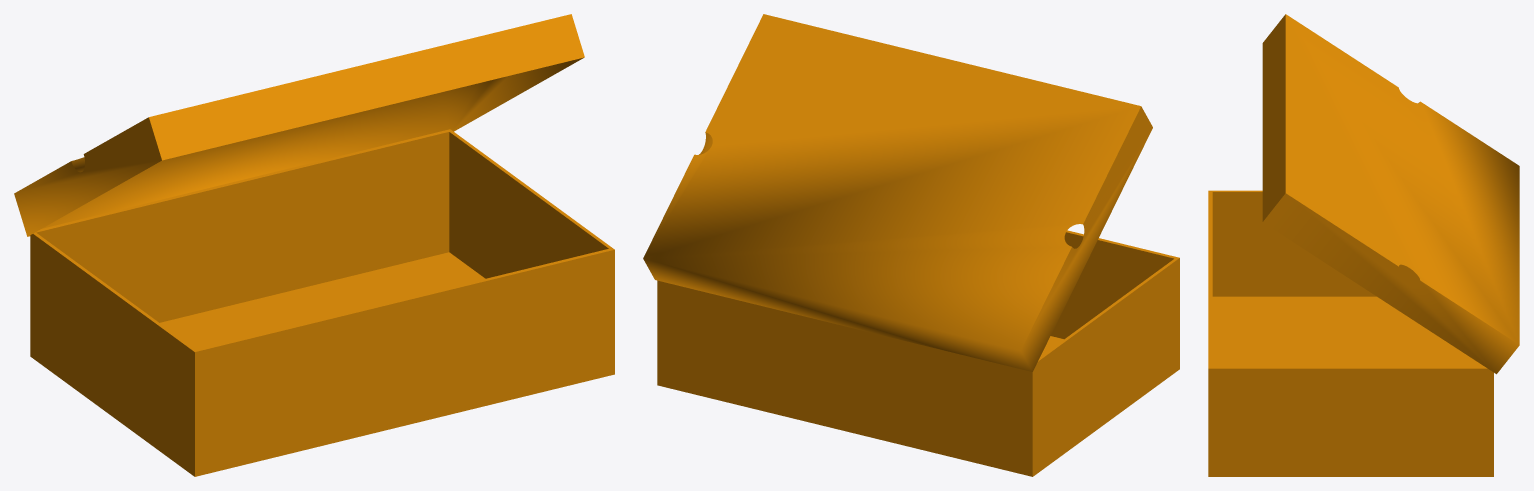
The model's file is box_shoebox.fbx.
The picture shows the model from 3 angles, left to right: view 1: azimuth 30°, elevation 25°; view 2: azimuth 150°, elevation 25°; view 3: azimuth 270°, elevation 25°; orthographic projection. The views are drawn at different scales.
Visible parts, largest first — view 1: shoebox, shoebox_interior, shoebox_cap; view 2: shoebox_cap, shoebox, shoebox_interior; view 3: shoebox_cap, shoebox, shoebox_interior.
Boxes of the visible parts, x1=… form: shoebox: x1=30, y1=129, x2=614, y2=476; shoebox_interior: x1=36, y1=132, x2=608, y2=349; shoebox_cap: x1=14, y1=14, x2=584, y2=236; shoebox_cap: x1=643, y1=14, x2=1152, y2=371; shoebox: x1=657, y1=230, x2=1179, y2=476; shoebox_interior: x1=1040, y1=232, x2=1173, y2=356; shoebox_cap: x1=1262, y1=14, x2=1519, y2=374; shoebox: x1=1208, y1=190, x2=1493, y2=476; shoebox_interior: x1=1212, y1=192, x2=1484, y2=366.
Bounding box in the file's own units: 1.32 × 0.9738 × 0.967.
